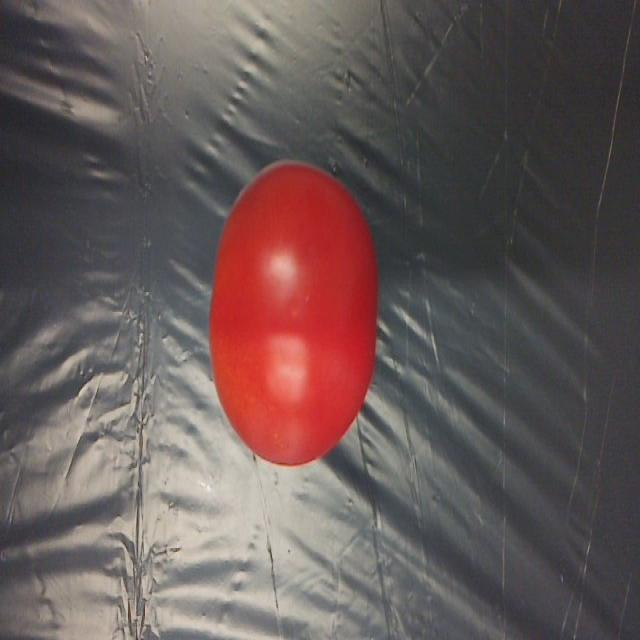kirmizi: (211, 145, 393, 476)
